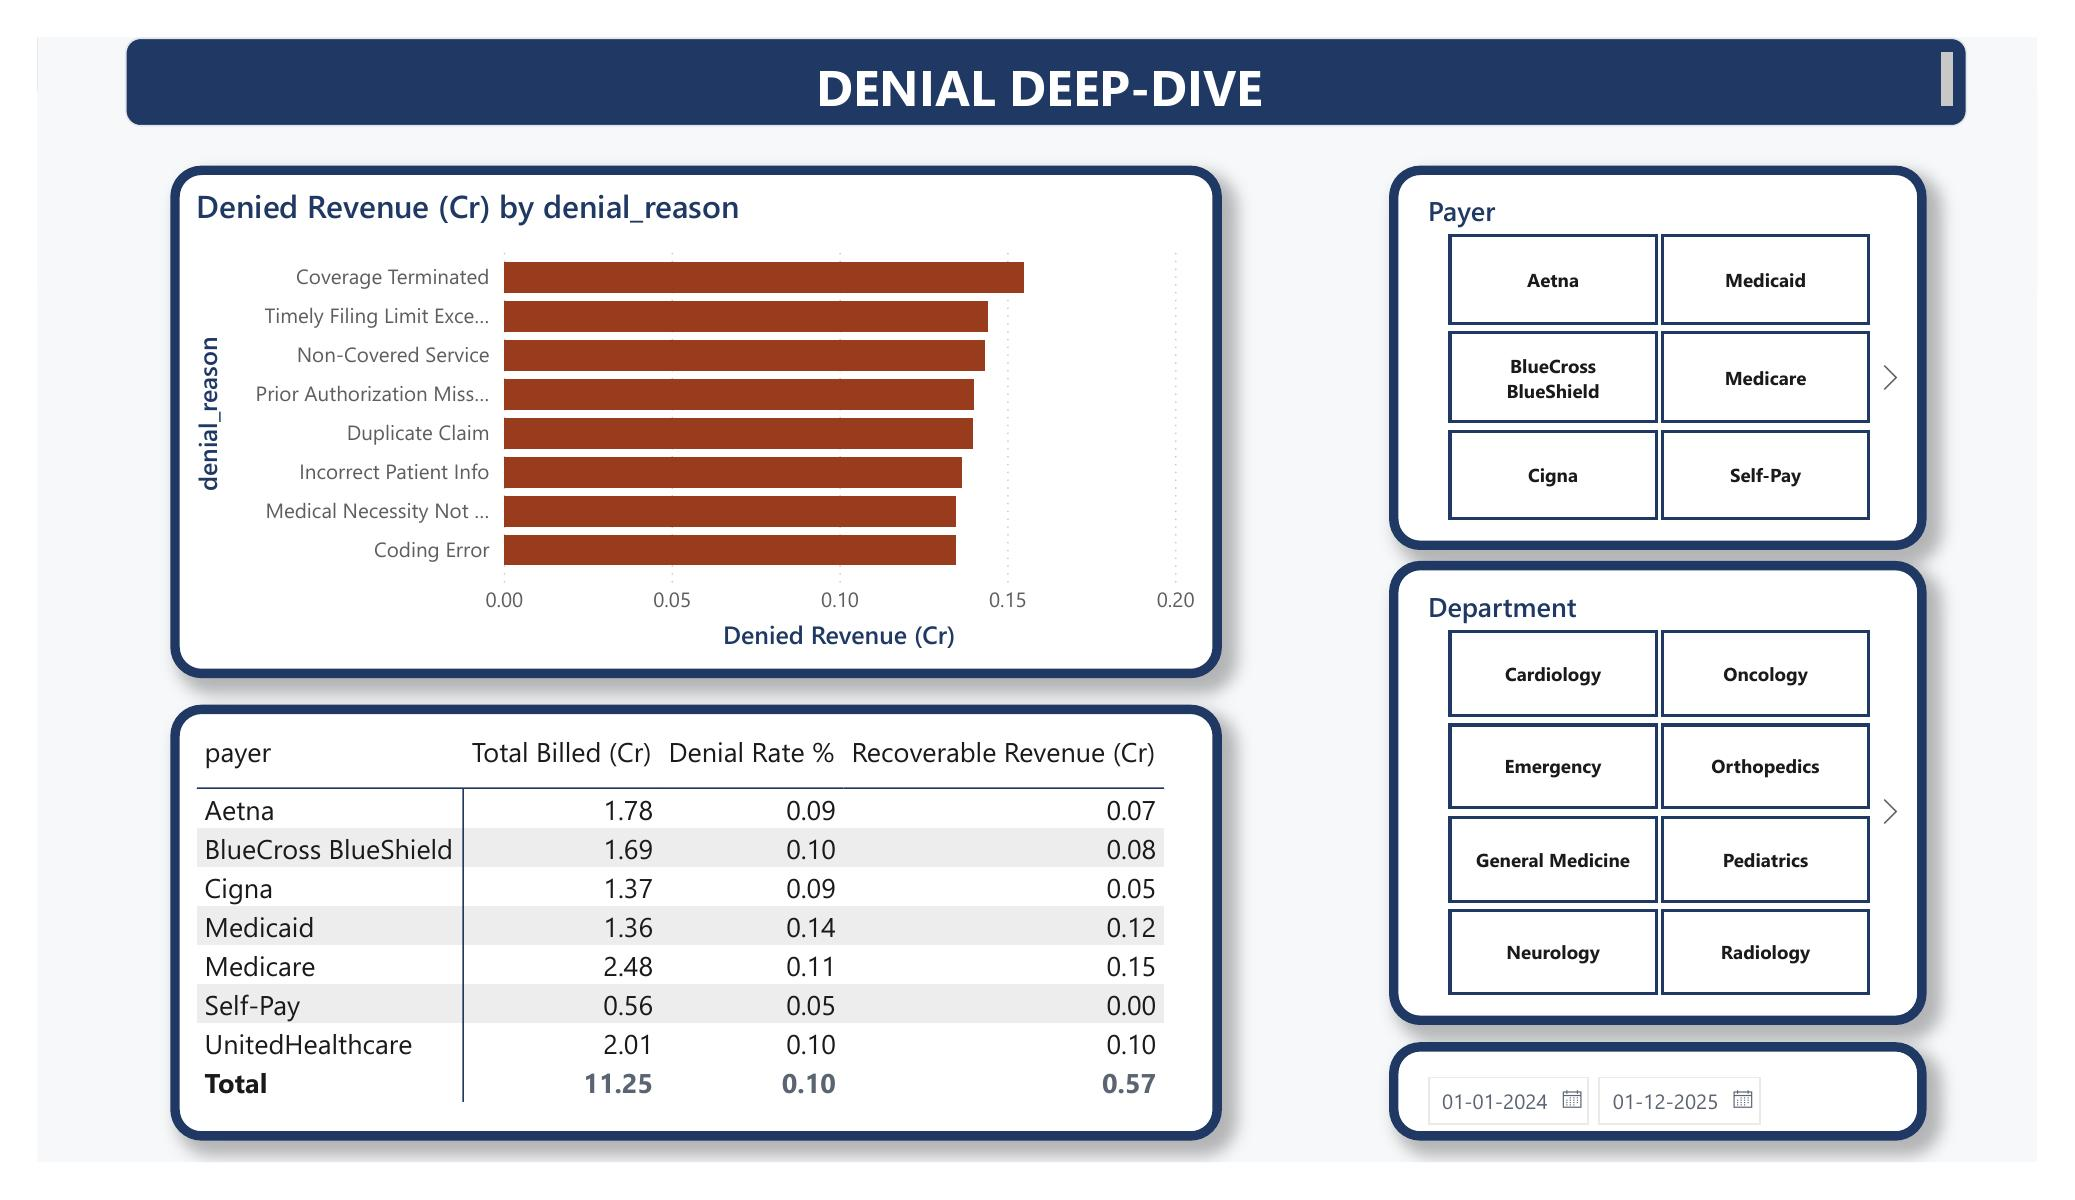

The dashboard page shown, as its layout file describes it:
{"tool":"powerbi","page":{"name":"Denial Deep-Dive","canvas":[1280,720],"ordinal":1},"visuals":[{"type":"clusteredBarChart","fields":{"Category":["DenialReasons.denial_reason"],"Y":["healthcare_encounters.Denied Revenue (Cr)"]},"box":[84.5,81.6,673.2,328],"z":3000},{"type":"pivotTable","fields":{"Rows":["healthcare_encounters.payer"],"Values":["healthcare_encounters.Total Billed (Cr)","healthcare_encounters.Denial Rate %","healthcare_encounters.Recoverable Revenue (Cr)"]},"box":[84.5,426.9,673.2,279.3],"z":4000},{"type":"slicer","fields":{"Values":["healthcare_encounters.payer"]},"box":[865.2,81.6,343.8,246.4],"z":5000},{"type":"slicer","fields":{"Values":["healthcare_encounters.department"]},"box":[865.2,335.2,343.8,296.5],"z":6000},{"type":"slicer","fields":{"Values":["healthcare_encounters.Start of Month"]},"box":[865.2,643.1,343.8,63],"z":7000},{"type":"textbox","box":[55.9,0,1178.9,57.3],"z":7001}]}

Visuals, with their boxes in screenshot pixels (x1, y1, x2, y2):
clusteredBarChart - DenialReasons.denial_reason x healthcare_encounters.Denied Revenue (Cr): select_region(179, 158, 1217, 664)
pivotTable - healthcare_encounters.payer x healthcare_encounters.Total Billed (Cr): select_region(179, 691, 1217, 1121)
slicer - healthcare_encounters.payer: select_region(1383, 158, 1913, 538)
slicer - healthcare_encounters.department: select_region(1383, 549, 1913, 1007)
slicer - healthcare_encounters.Start of Month: select_region(1383, 1024, 1913, 1121)
textbox: select_region(135, 32, 1953, 121)
